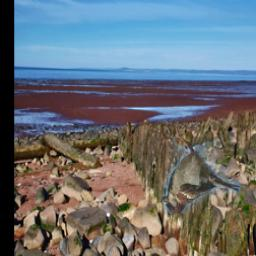Sparrow: (162, 138, 240, 215)
